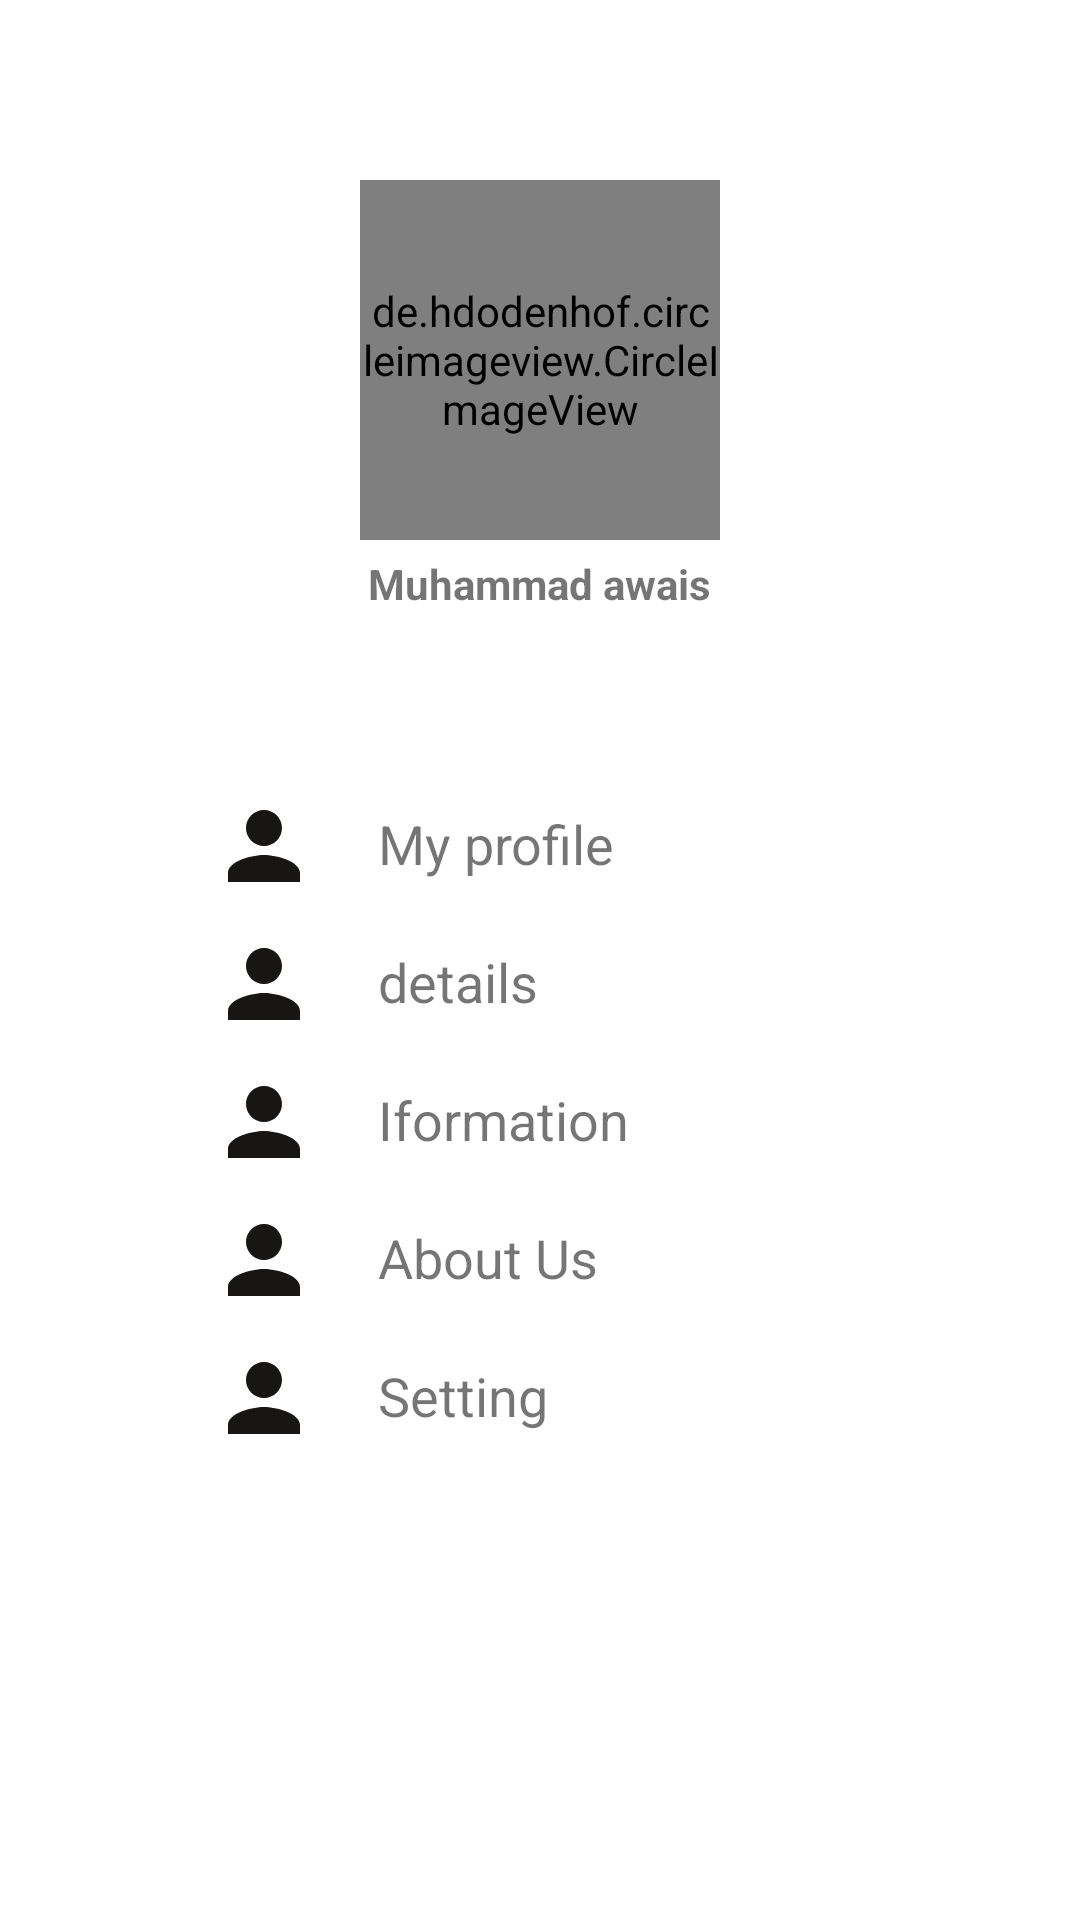

Locate icon controls on the screen. Image size 1080×1920, boxes as (x1, y1, x2, y2).
person: (228, 810, 300, 882), (228, 948, 300, 1020), (228, 1086, 300, 1158), (228, 1224, 300, 1296), (228, 1362, 300, 1434)
